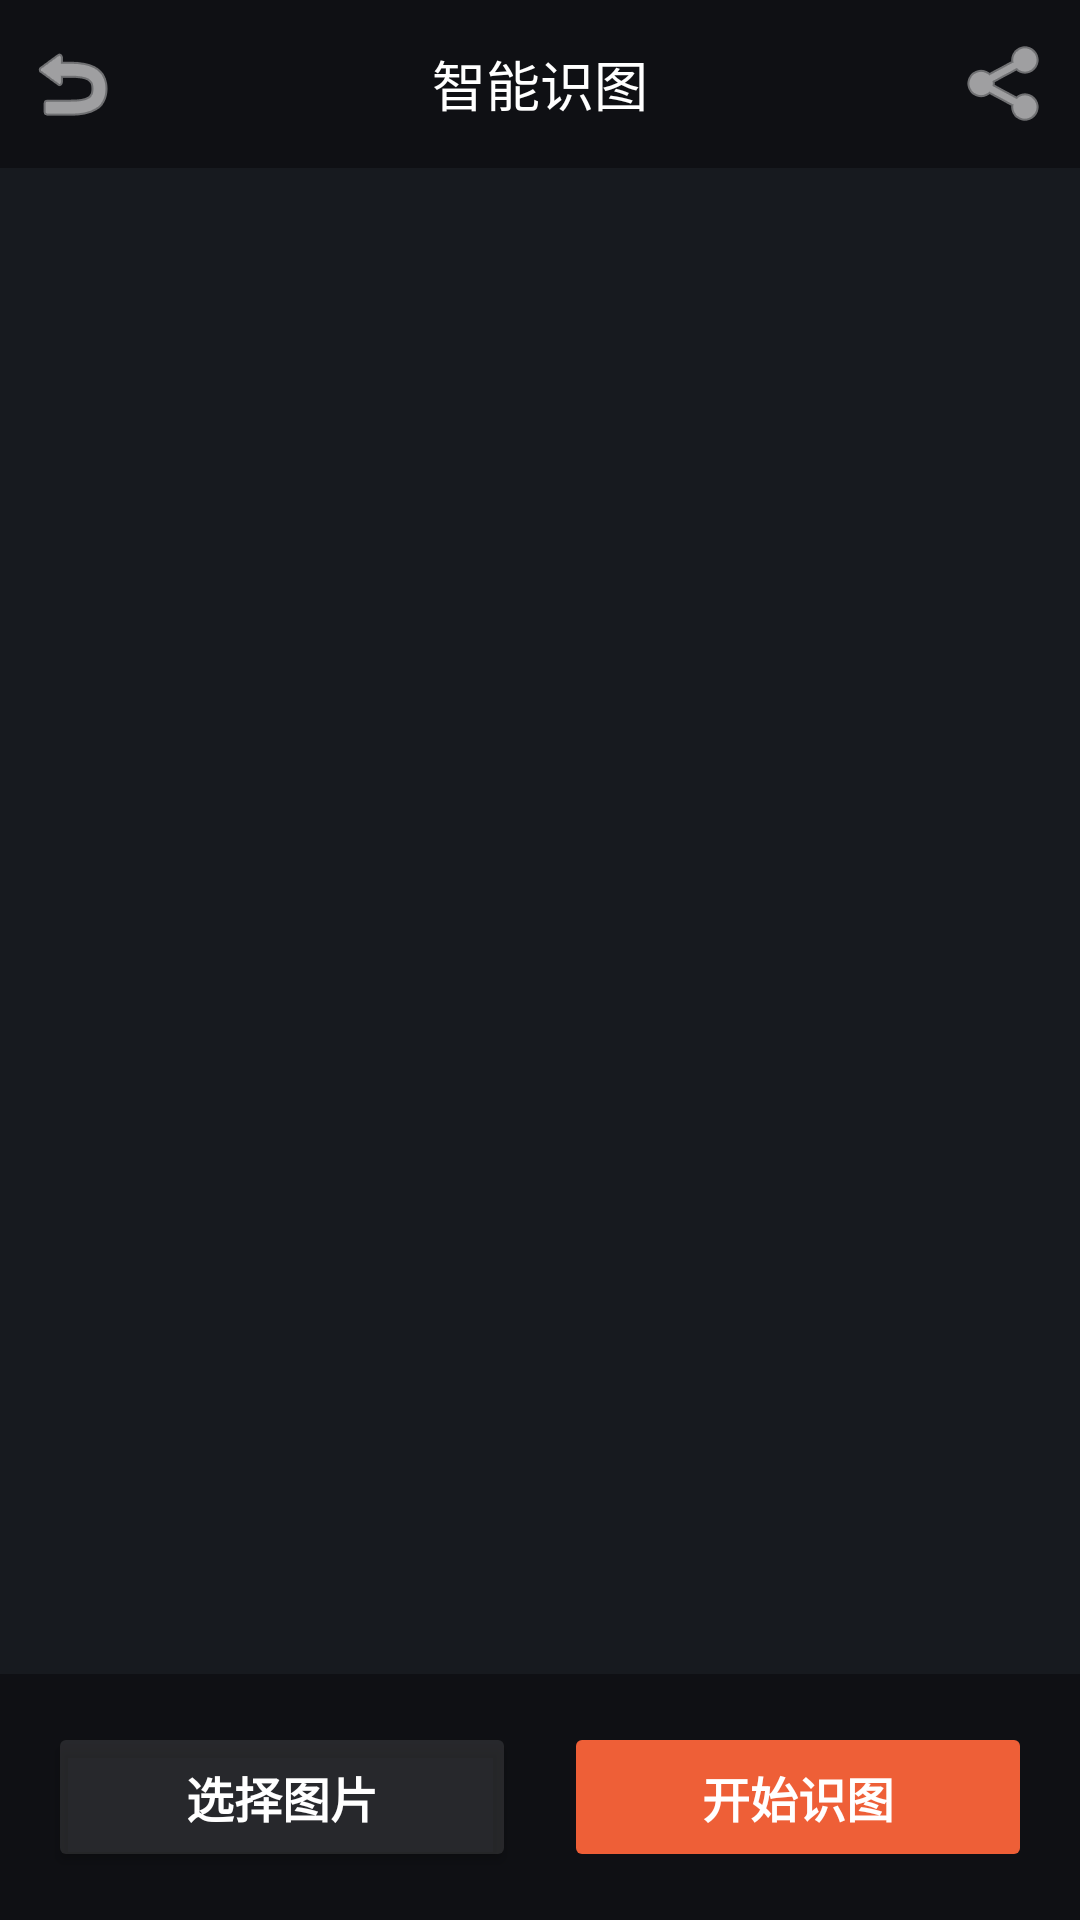

Point at icon controls on the screen. Image size 1080w x 1920h, points as point (x, y).
revert: point (73, 84)
share: point (1003, 83)
